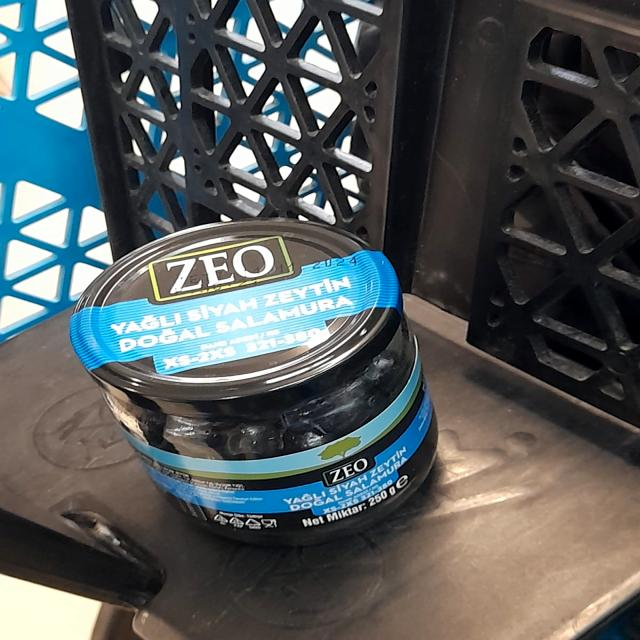olive: (87, 213, 452, 547)
